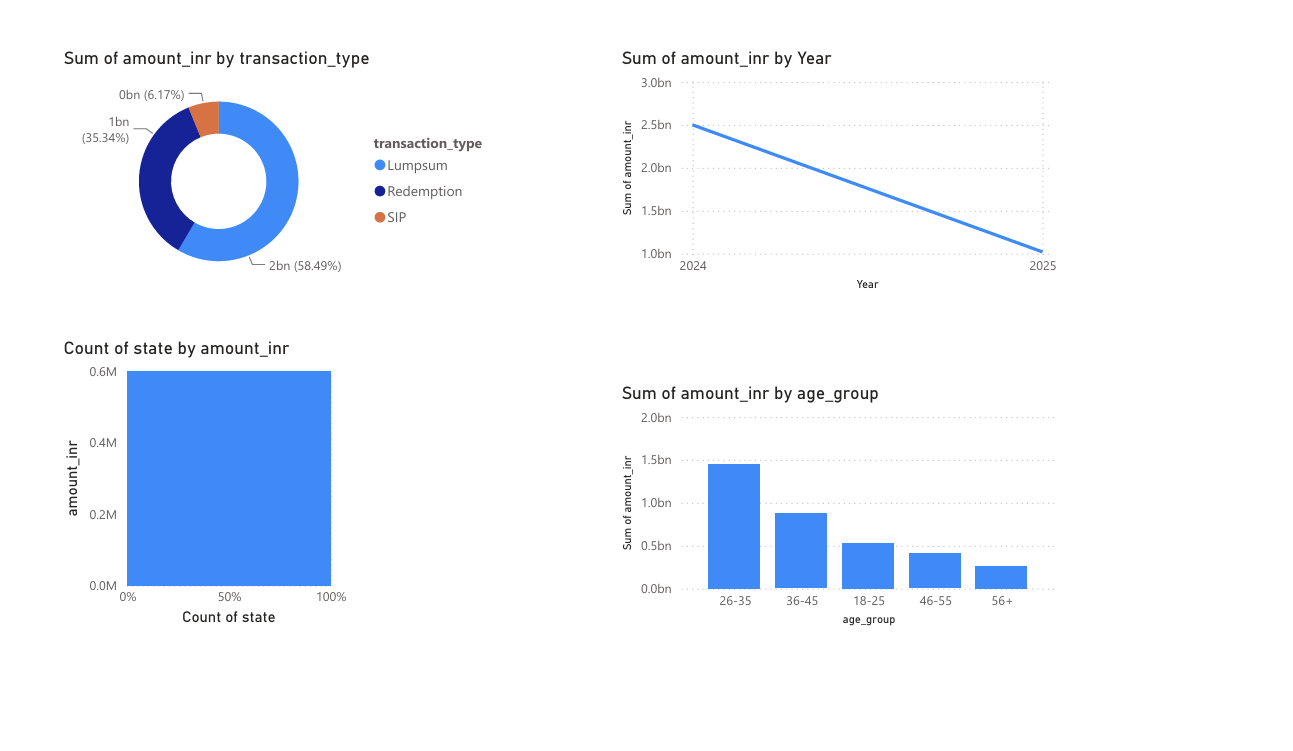

The dashboard page shown, as its layout file describes it:
{"tool":"powerbi","page":{"name":"Investor Analytics","canvas":[1280,720],"ordinal":2},"visuals":[{"type":"hundredPercentStackedBarChart","fields":{"Y":["CountNonNull(08_investor_transactions_clean.state)"],"Category":["08_investor_transactions_clean.amount_inr"]},"box":[51.7,326.7,280,280],"z":0},{"type":"donutChart","fields":{"Category":["08_investor_transactions_clean.transaction_type"],"Y":["Sum(08_investor_transactions_clean.amount_inr)"]},"box":[51.7,50,425,236.7],"z":1000},{"type":"clusteredColumnChart","fields":{"Category":["08_investor_transactions_clean.age_group"],"Y":["Sum(08_investor_transactions_clean.amount_inr)"]},"box":[585,370,425,236.7],"z":1001},{"type":"lineChart","fields":{"Category":["08_investor_transactions_clean.transaction_date.Variation.Date Hierarchy.Year","08_investor_transactions_clean.transaction_date.Variation.Date Hierarchy.Quarter","08_investor_transactions_clean.transaction_date.Variation.Date Hierarchy.Month","08_investor_transactions_clean.transaction_date.Variation.Date Hierarchy.Day"],"Y":["Sum(08_investor_transactions_clean.amount_inr)"]},"box":[585,50,425,237],"z":1002}]}

Visuals, with their boxes on the page's 1280x720 design canvas (x1, y1, x2, y2). These are canvas units, not pixel positions in the 1293x751 screenshot, which may show the page scaled, cropped or inside an application window:
hundredPercentStackedBarChart - CountNonNull(08_investor_transactions_clean.state) x 08_investor_transactions_clean.amount_inr: 52,327,332,607
donutChart - 08_investor_transactions_clean.transaction_type x Sum(08_investor_transactions_clean.amount_inr): 52,50,477,287
clusteredColumnChart - 08_investor_transactions_clean.age_group x Sum(08_investor_transactions_clean.amount_inr): 585,370,1010,607
lineChart - 08_investor_transactions_clean.transaction_date.Variation.Date Hierarchy.Year x 08_investor_transactions_clean.transaction_date.Variation.Date Hierarchy.Quarter: 585,50,1010,287
